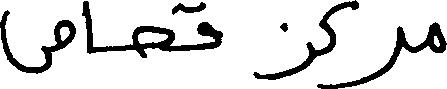X: (0, 5, 75, 78), (256, 18, 314, 84), (320, 0, 357, 88), (359, 21, 402, 88), (134, 3, 173, 62), (198, 0, 221, 54), (428, 17, 446, 57), (84, 0, 92, 58)
